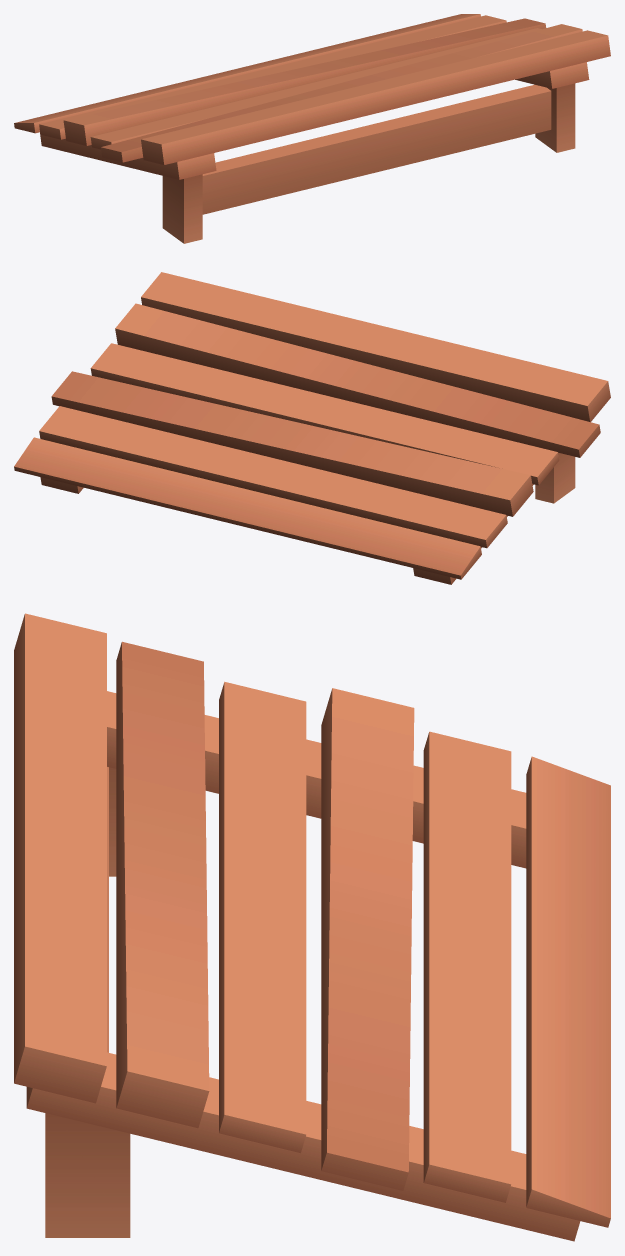
Rendered from ramp-wide.glb.
3 renders of one model, top to bottom at view 1: azimuth 30°, elevation 25°; view 2: azimuth 150°, elevation 25°; view 3: azimuth 270°, elevation 25°, orthographic. The views are drawn at different scales.
Visible parts, largest first — view 1: ramp-wide; view 2: ramp-wide; view 3: ramp-wide.
Part boxes in pixels (x1,y1,x2,y2): ramp-wide: [14, 14, 610, 243]; ramp-wide: [14, 272, 610, 584]; ramp-wide: [14, 613, 610, 1241].
Bounding box in the file's own units: 5.14 × 1.14 × 2.81.
Materials: 1 (1 with a texture image).
